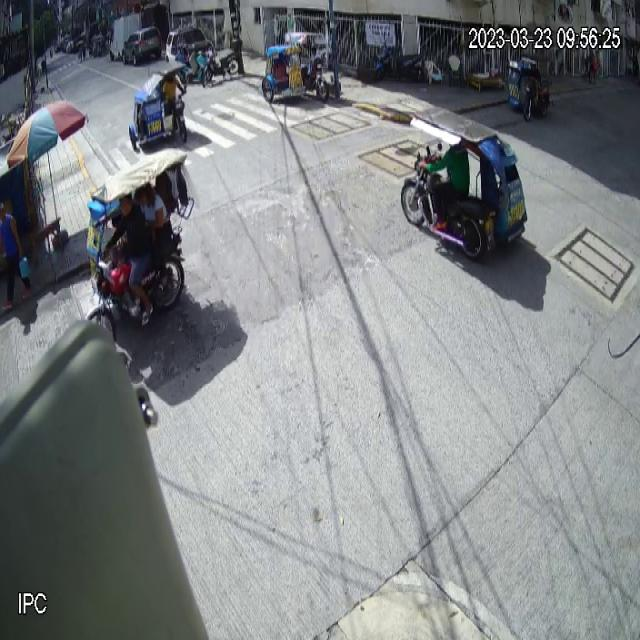Tricycle: (86, 148, 196, 341), (400, 106, 528, 261), (128, 60, 188, 150), (260, 30, 330, 104)
